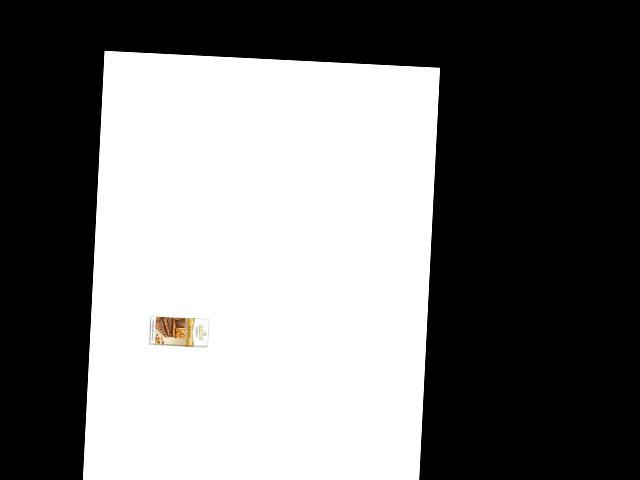chocolate: (146, 310, 212, 358)
